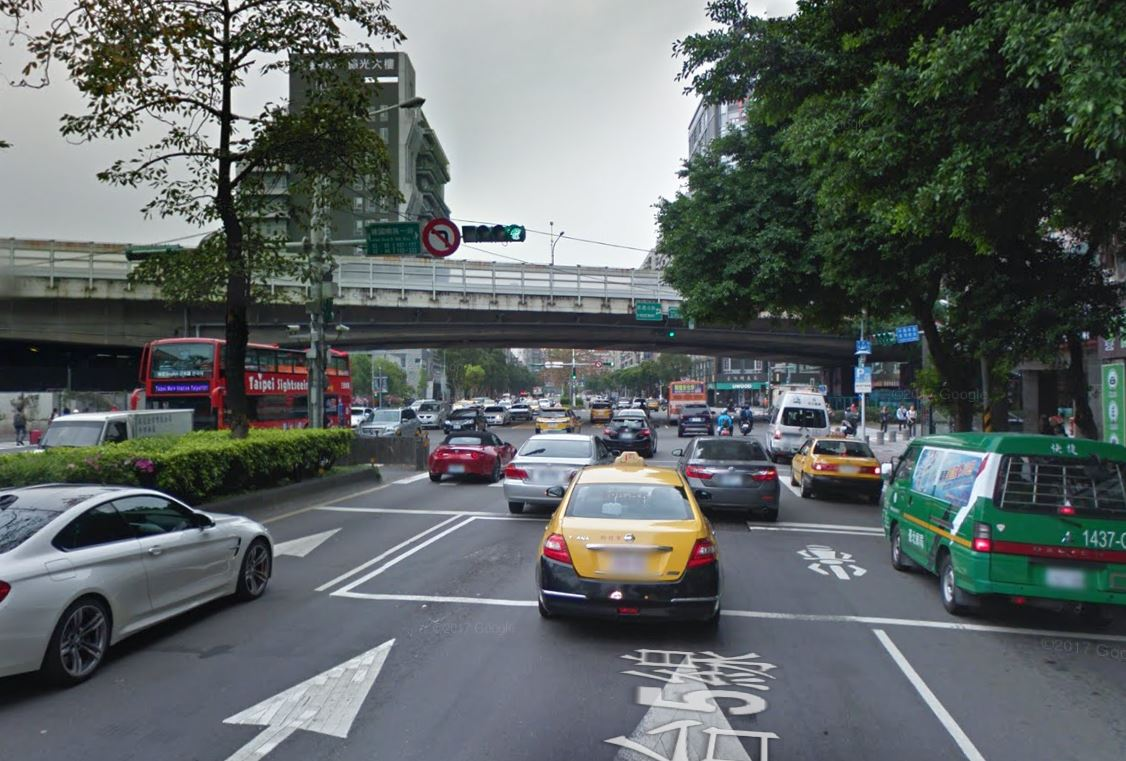No_left_turn: (422, 218, 460, 257)
Traffic_light_green: (464, 225, 526, 242)
